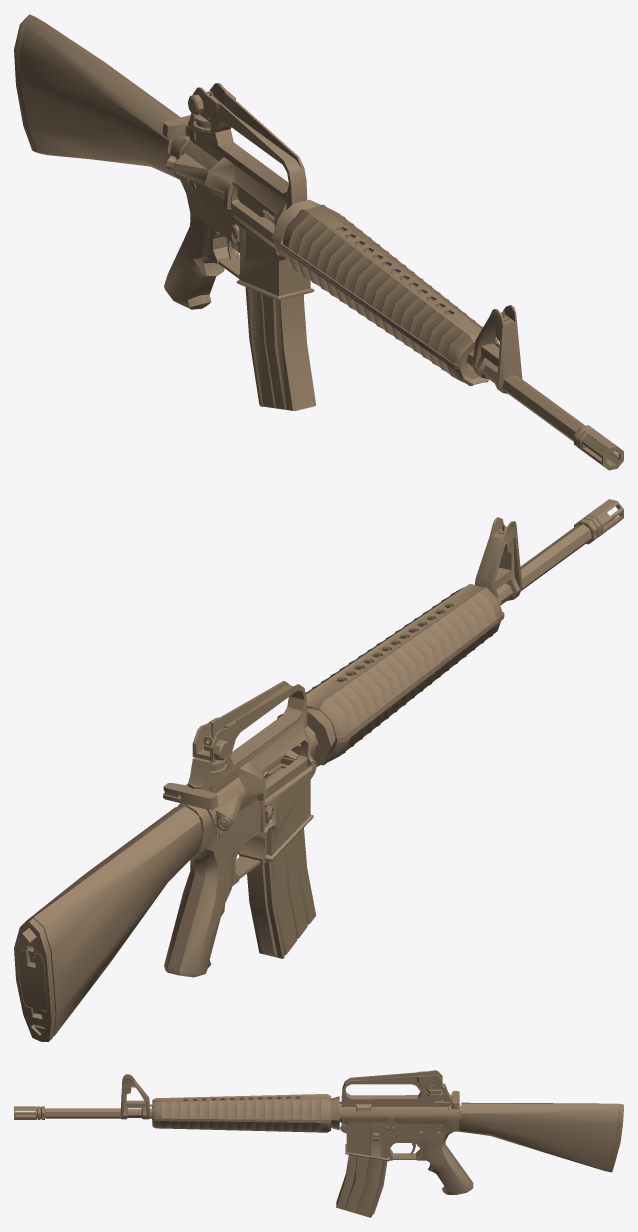
Rendered from m16_tan_prop.glb.
The picture shows the model from 3 angles, top to bottom: view 1: azimuth 30°, elevation 25°; view 2: azimuth 150°, elevation 25°; view 3: azimuth 270°, elevation 25°; orthographic projection. The views are drawn at different scales.
Visible parts, largest first — view 1: M16A2 Toy Prop; view 2: M16A2 Toy Prop; view 3: M16A2 Toy Prop.
Boxes of the visible parts, <box> form: M16A2 Toy Prop: <box>14,14,623,470</box>; M16A2 Toy Prop: <box>14,499,623,1041</box>; M16A2 Toy Prop: <box>14,1070,623,1217</box>.
Bounding box in the file's own units: 0.051 × 0.2051 × 0.7979.
